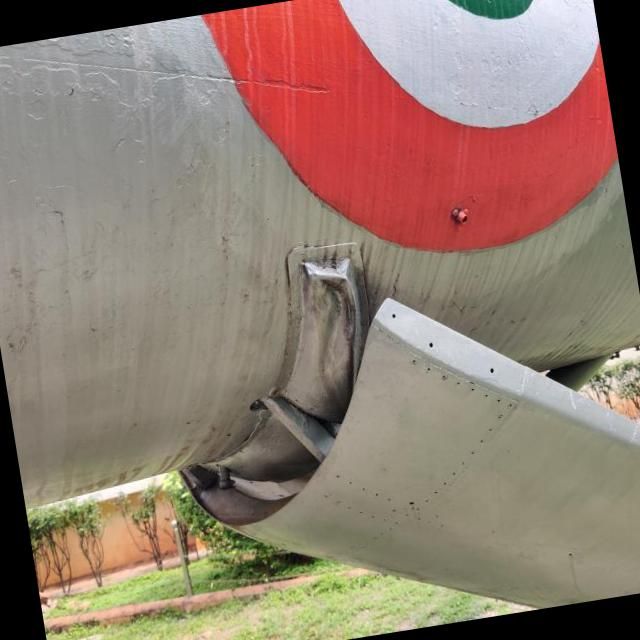Dent: (282, 243, 370, 422)
